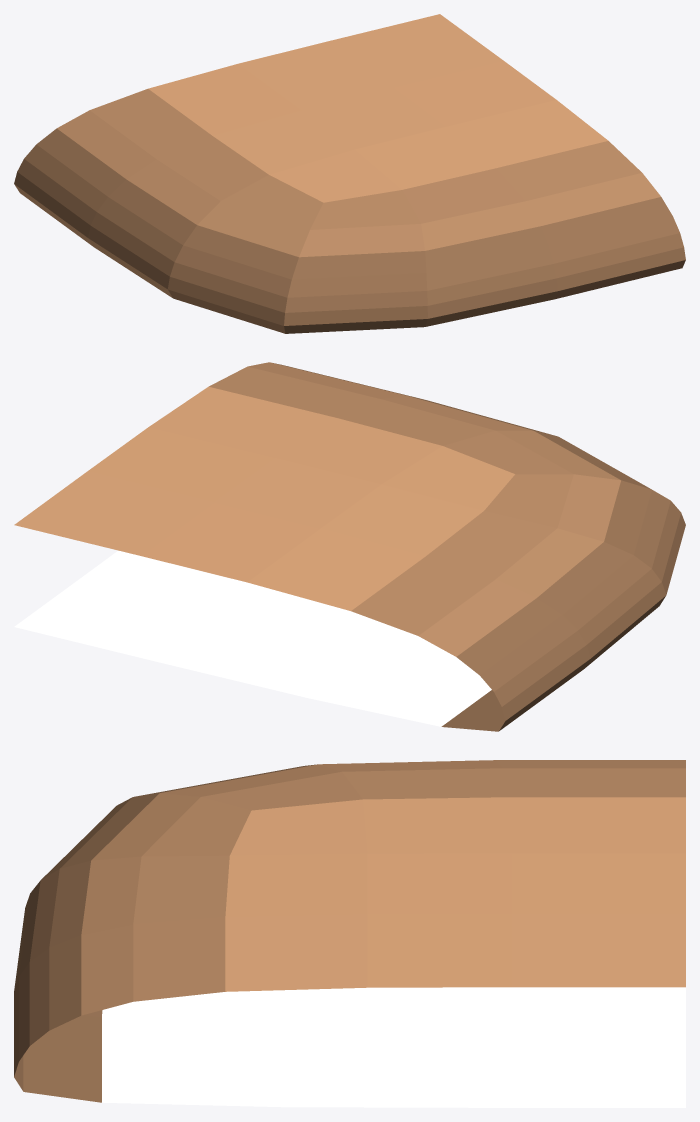
File: soil_tile_1.fbx
The picture shows the model from 3 angles, top to bottom: view 1: azimuth 30°, elevation 25°; view 2: azimuth 150°, elevation 25°; view 3: azimuth 270°, elevation 25°; orthographic projection. The views are drawn at different scales.
Parts seen in each view (by area): view 1: _Corner_1; view 2: _Corner_1; view 3: _Corner_1.
Boxes of the visible parts, x1,y1,x2,y2 form: _Corner_1: [14, 14, 685, 333]; _Corner_1: [14, 362, 685, 731]; _Corner_1: [14, 760, 685, 1107].
Size of the model in its own units: 0.4985 by 0.4985 by 0.0988.
